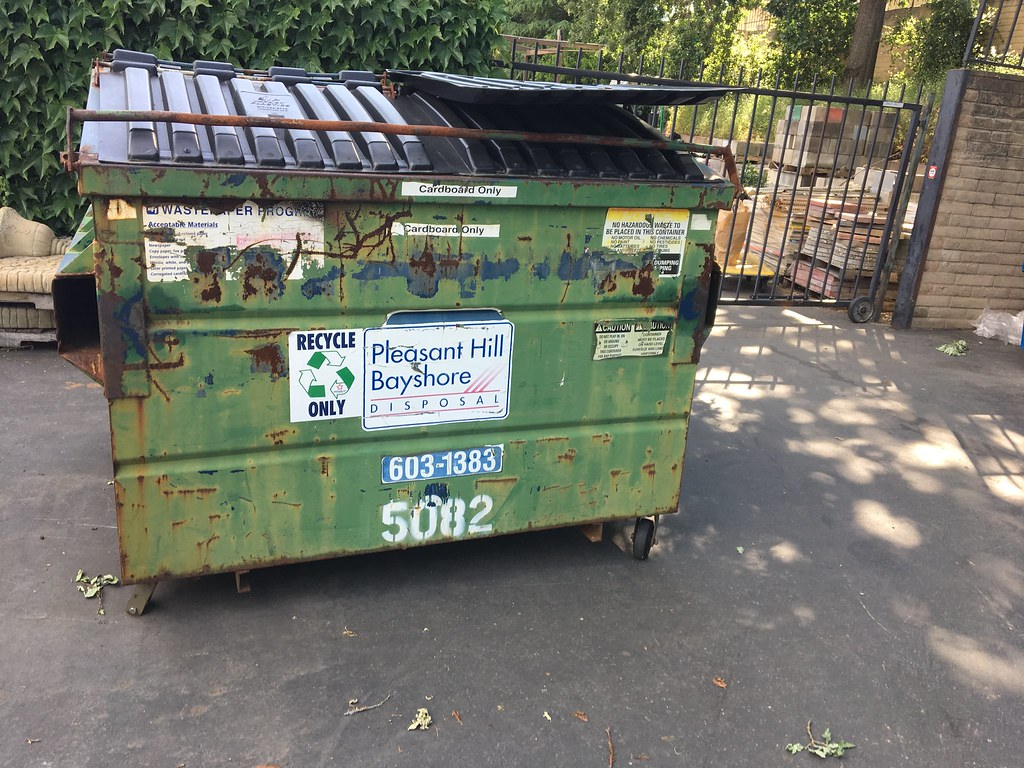Dumpster: (60, 49, 732, 629)
